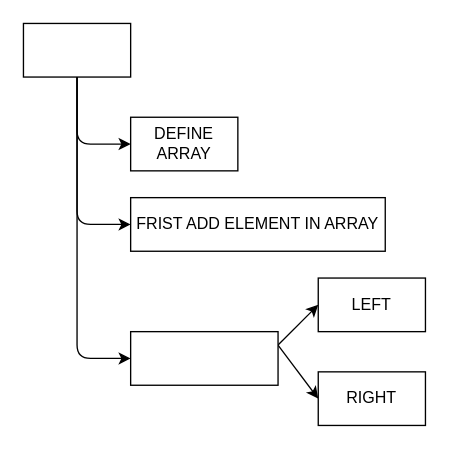
Some shapes in this 449 by 449 pixel diagram are drawn without their labels. The shapes that lost their labels are listed below. From the top down, each one's box as (x1, y1, x2, y2) in pixels, then its label:
(22, 22, 131, 77): ARRAY
(129, 330, 278, 385): LEFT OR RIGHT
